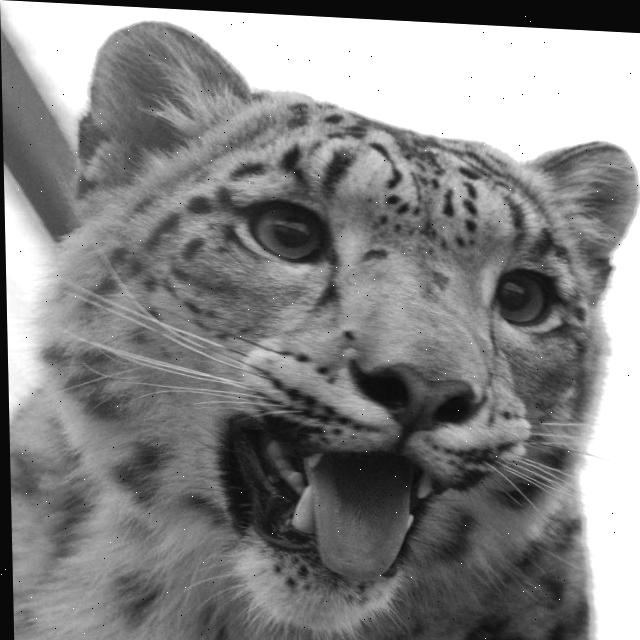Leopard: (1, 11, 640, 640)
